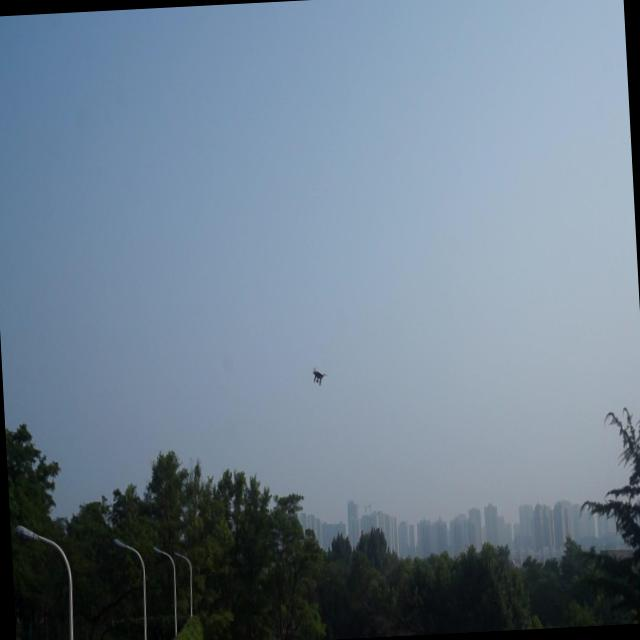drone: (310, 362, 328, 392)
